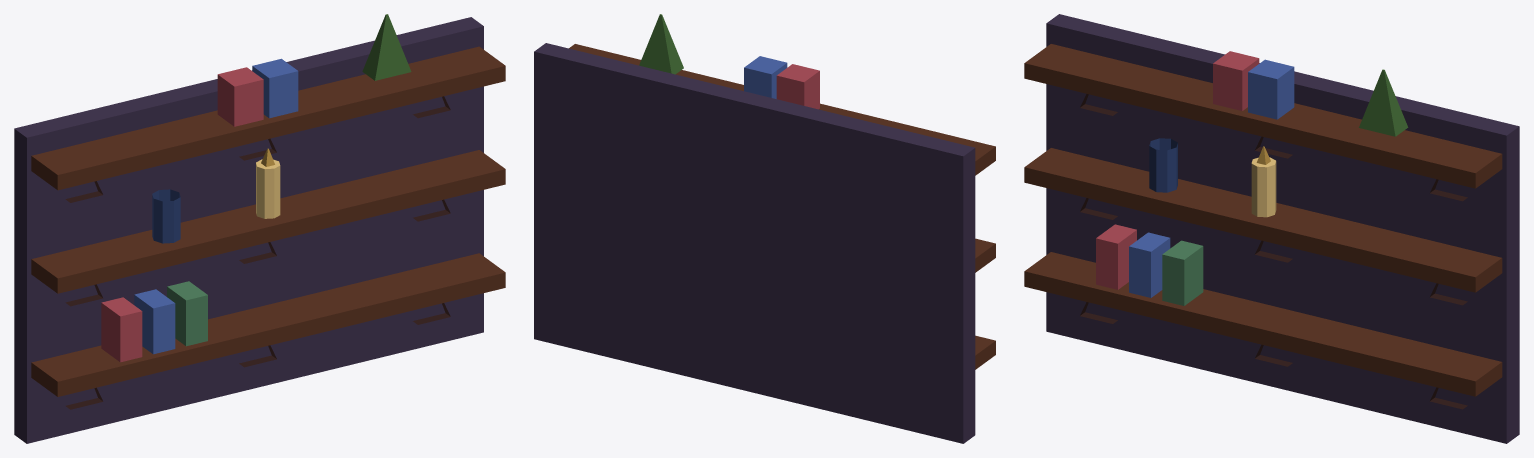
File: wall_shelves.obj
3 views of the same model, side by side, from view 1: azimuth 30°, elevation 25°; view 2: azimuth 150°, elevation 25°; view 3: azimuth 330°, elevation 25° (orthographic). The views are drawn at different scales.
Size of the model in its own units: 2.5 by 1.85 by 0.37.
